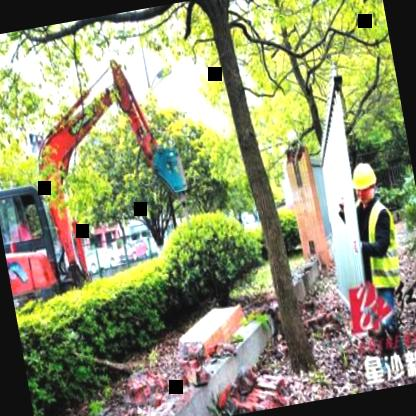helmet: (348, 159, 382, 207)
